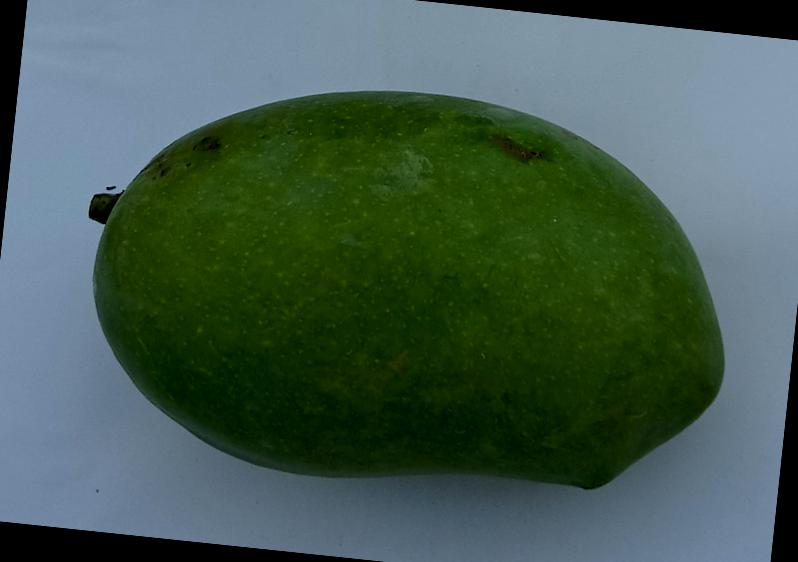Mango Unripe: (19, 33, 794, 542)
